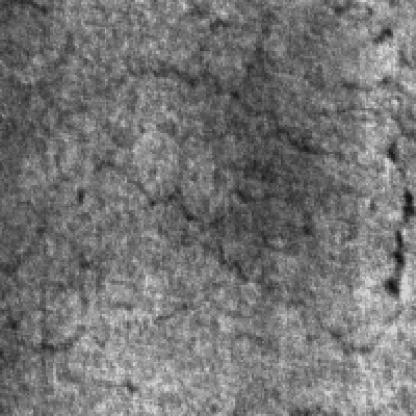crazing: (90, 21, 378, 364)
